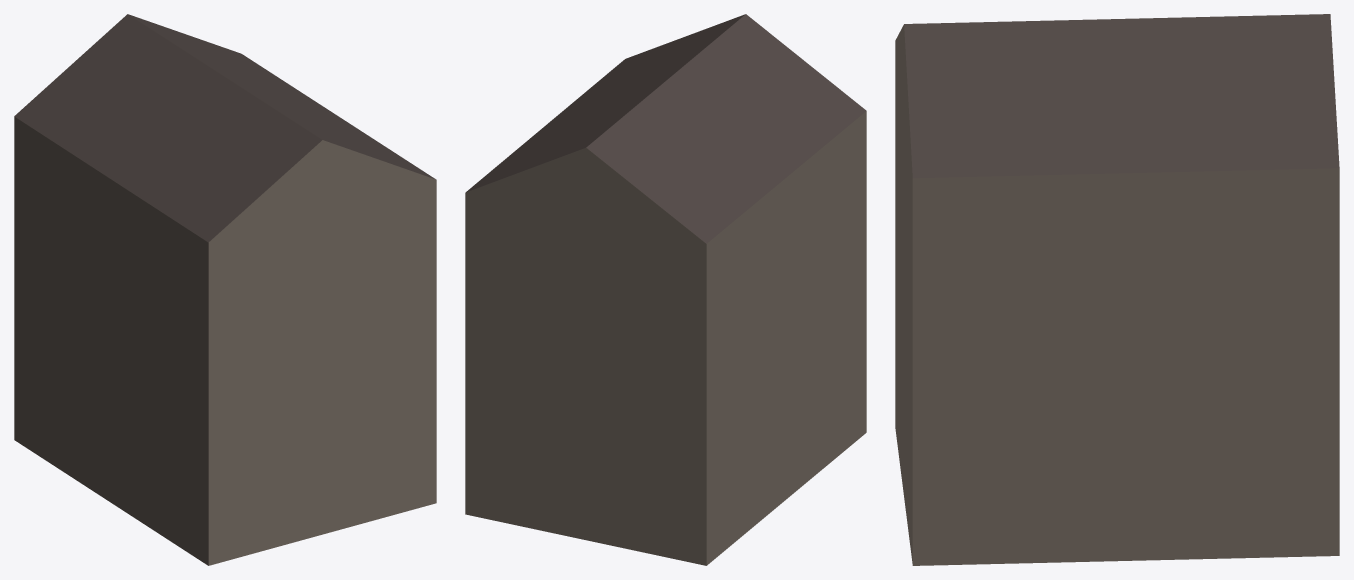
3 views of the same model, side by side, from view 1: azimuth 30°, elevation 25°; view 2: azimuth 150°, elevation 25°; view 3: azimuth 270°, elevation 25° (orthographic). The views are drawn at different scales.
Visible parts, largest first — view 1: HP-w1424106468; view 2: HP-w1424106468; view 3: HP-w1424106468.
Part boxes in pixels (x1,y1,x2,y2): HP-w1424106468: (14,14,436,565); HP-w1424106468: (465,14,866,565); HP-w1424106468: (895,14,1339,565).
Size of the model in its own units: 4.9 by 7.32 by 6.23.
